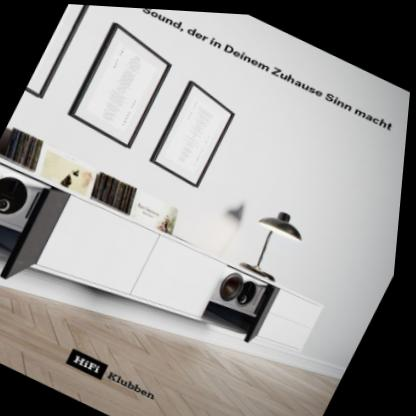Sideboard: (0, 161, 329, 348)
Wooden floor: (0, 284, 347, 416)
